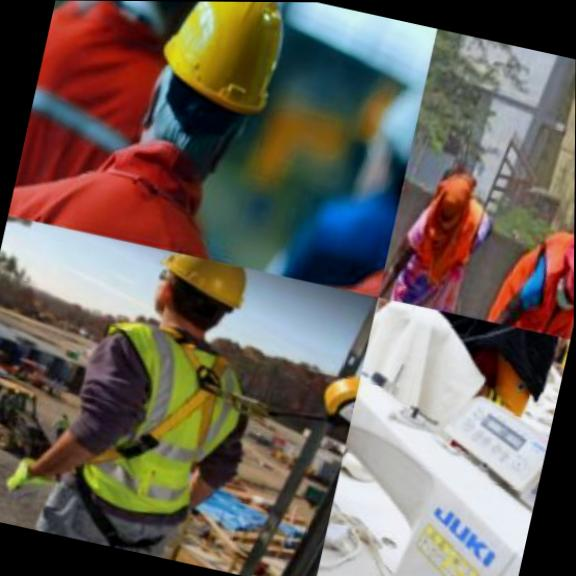safety_vest: (12, 277, 296, 568), (8, 77, 302, 272), (7, 0, 189, 241), (390, 183, 505, 302), (474, 209, 574, 337)
